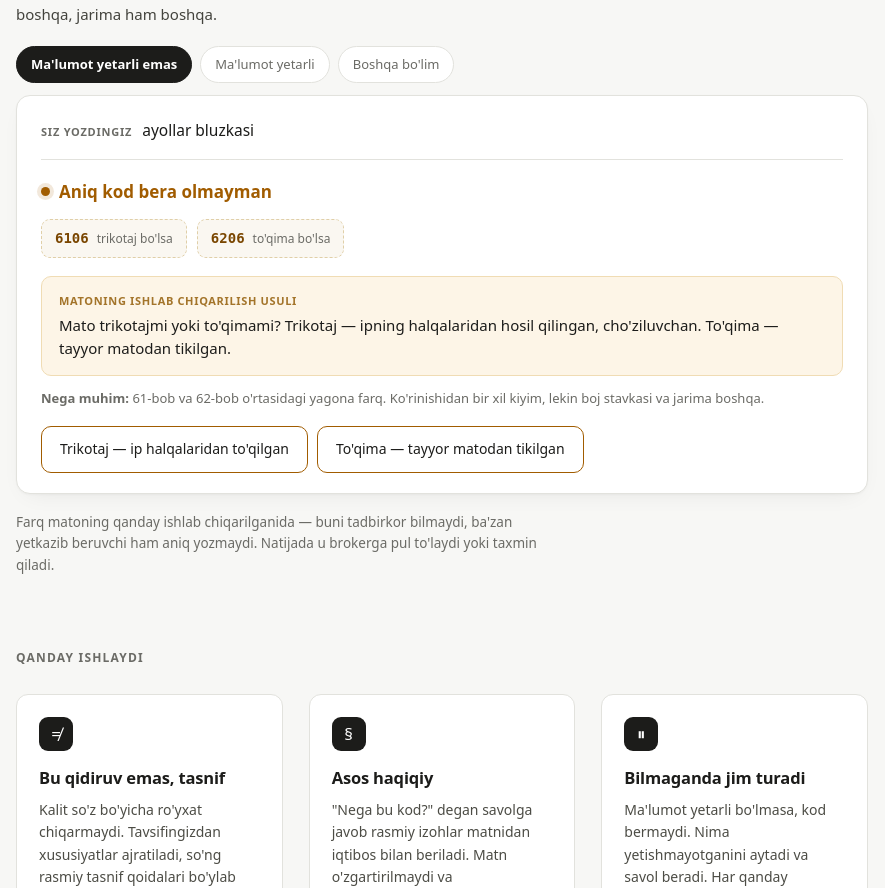
Test: demo — boshqarish › bosilgan javoblar ko'rinib turadi
(page scrolled)
Click the button with test id "demo-option" that starts with "Trikotaj — ip halqalaridan to'qilgan": point(174, 450) [41,426,308,473]
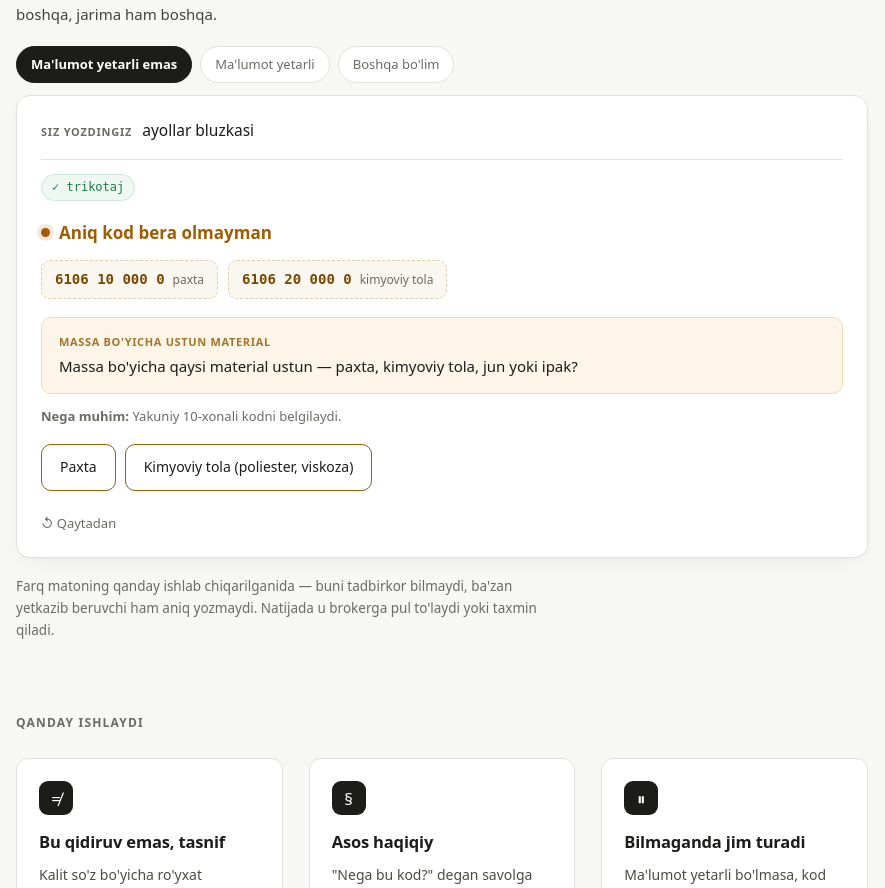
expect the number of elements with test id "demo-answered" is 1: met, box [41,174,135,201]
